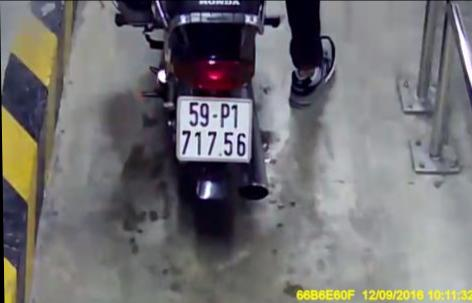LP: (174, 93, 255, 162)
